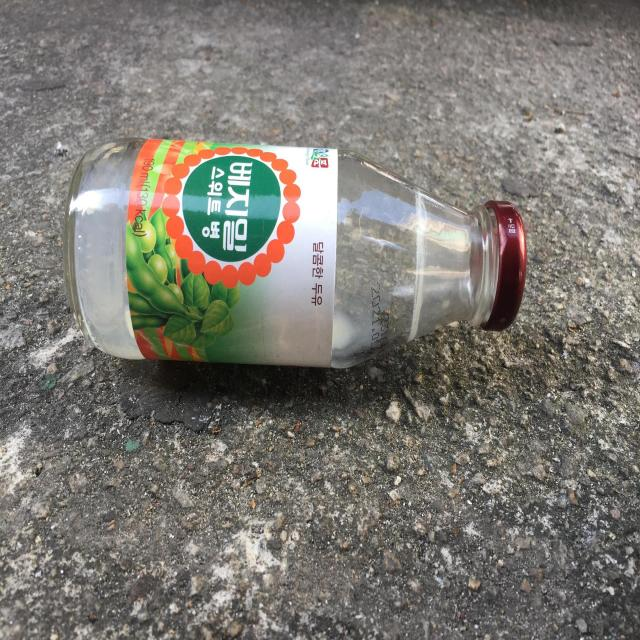glass: (64, 137, 527, 367)
